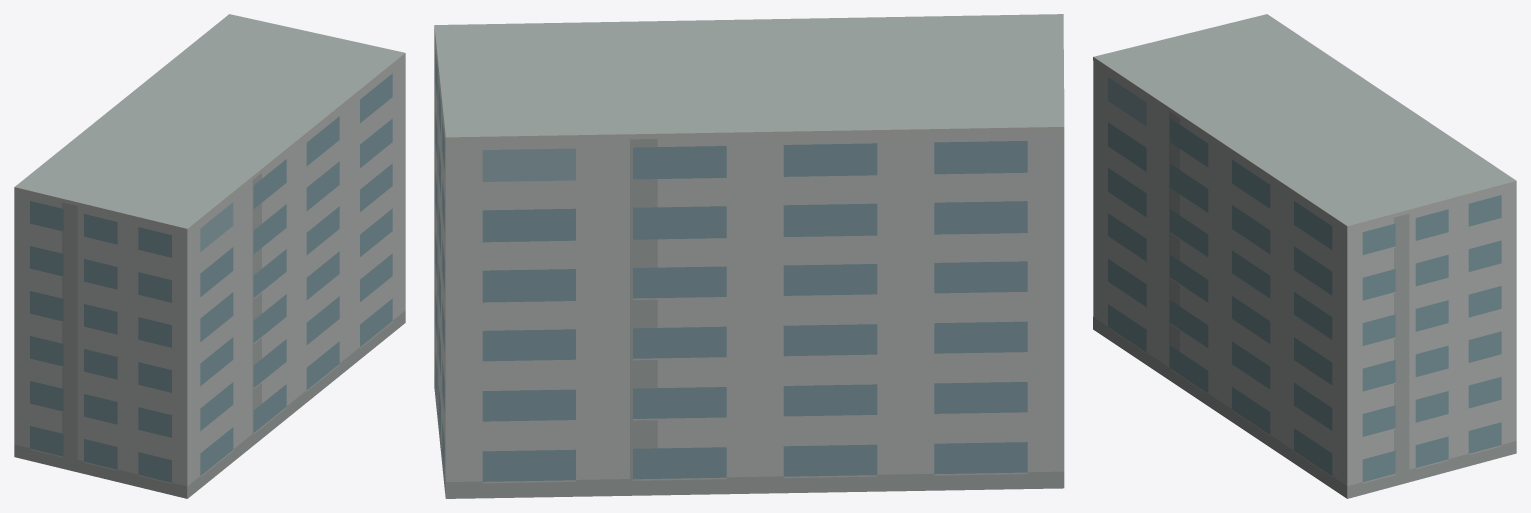
Rendered from survey-upis-32832340.glb.
The picture shows the model from 3 angles, left to right: view 1: azimuth 30°, elevation 25°; view 2: azimuth 150°, elevation 25°; view 3: azimuth 270°, elevation 25°; orthographic projection. The views are drawn at different scales.
Visible parts, largest first — view 1: survey-upis-32832340.tmp; view 2: survey-upis-32832340.tmp; view 3: survey-upis-32832340.tmp.
Boxes of the visible parts, x1=… form: survey-upis-32832340.tmp: x1=14, y1=14, x2=405, y2=498; survey-upis-32832340.tmp: x1=434, y1=14, x2=1064, y2=498; survey-upis-32832340.tmp: x1=1093, y1=14, x2=1516, y2=498.
Bounding box in the file's own units: 28.9 × 17.3 × 24.37.
